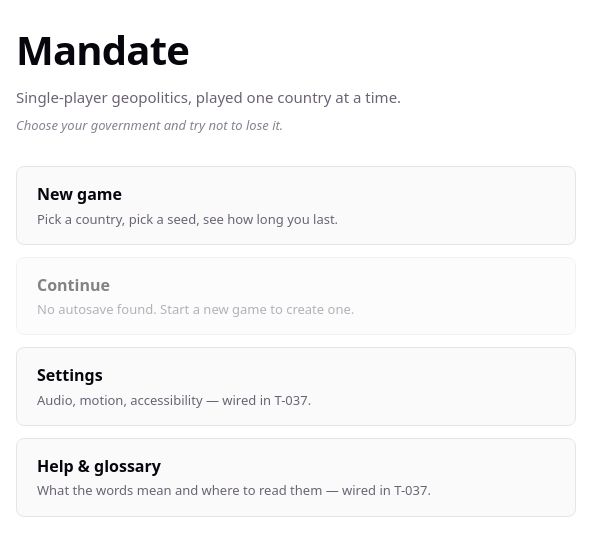
Scenario: T-036 — New game flow: country picker + seed toggle › clicking New game opens the country / seed form
Click the button with test id "new-game-button".
click(79, 194)  # box [16,166,576,245]
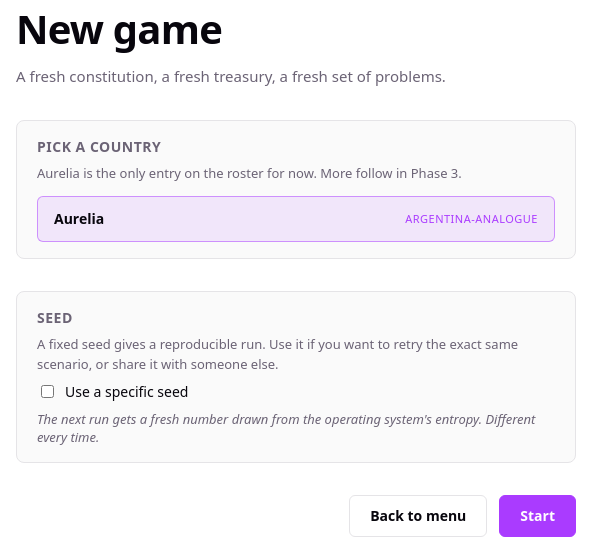
Result: the element with test id "country-aurelia" is shown at [37,196,555,242]
Result: the checkbox with test id "seed-toggle" is shown at [41,385,54,398]
Result: the text with test id "seed-random-note" is shown at [37,410,555,446]
